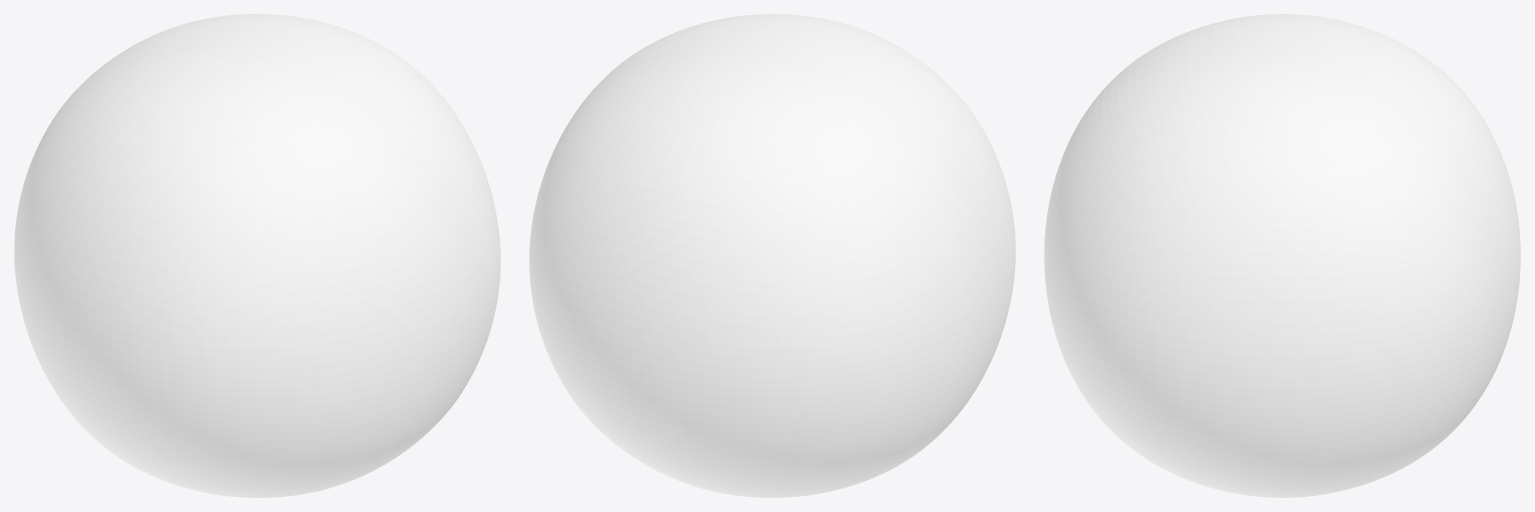
The picture shows the model from 3 angles, left to right: view 1: azimuth 30°, elevation 25°; view 2: azimuth 150°, elevation 25°; view 3: azimuth 270°, elevation 25°; orthographic projection.
Parts seen in each view (by area): view 1: Cube; view 2: Cube; view 3: Cube.
Part boxes in pixels (x1,y1,x2,y2): Cube: [14, 14, 500, 497]; Cube: [529, 14, 1015, 497]; Cube: [1044, 14, 1520, 497].
Bounding box in the file's own units: 16.79 × 16.79 × 16.79.
1 material, 1 textured.
